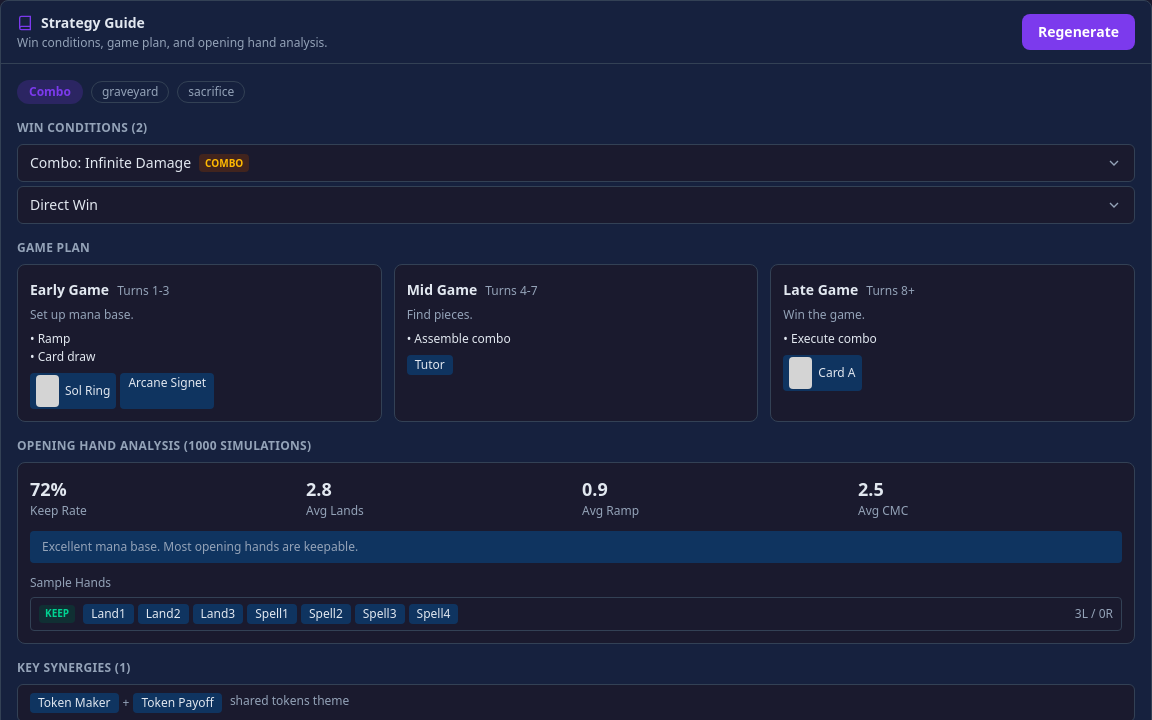
Test: StrategyGuide › opens lightbox when card badge is clicked
The image size is (1152, 720).
Note: Click Sol Ring badge (in game phases)
Click the button with aria-label "view sol ring".
click(73, 391)  # box left=30, top=373, right=116, bottom=409
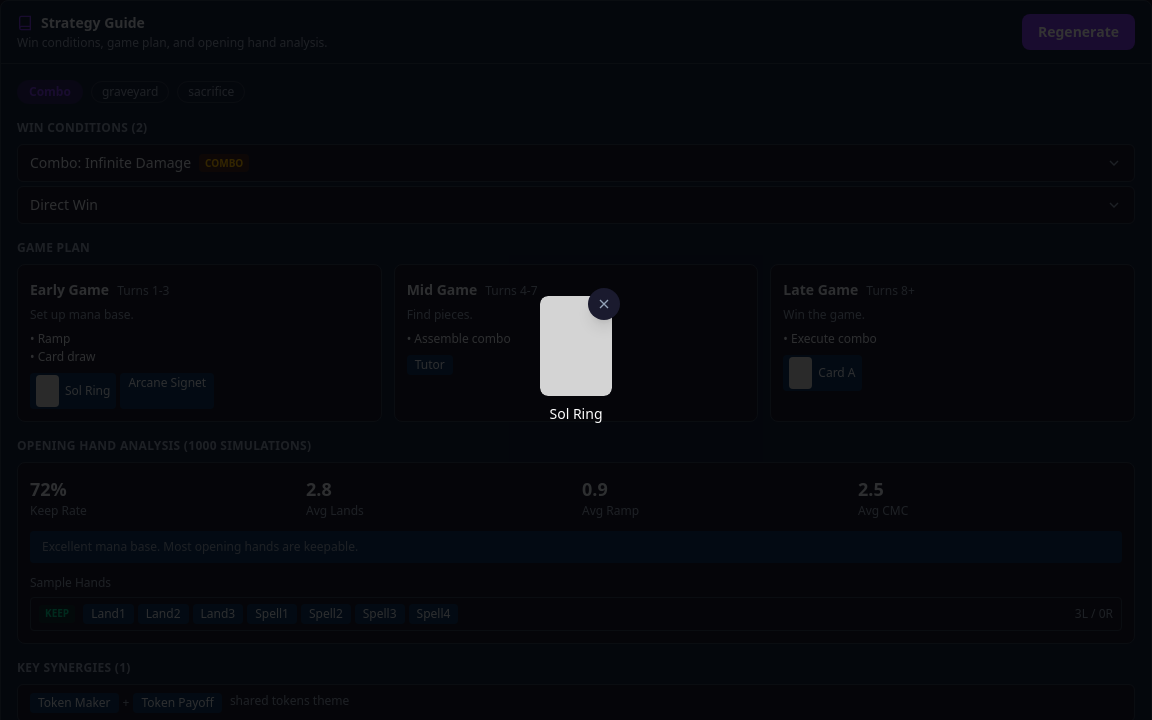
Check: the dialog is shown
